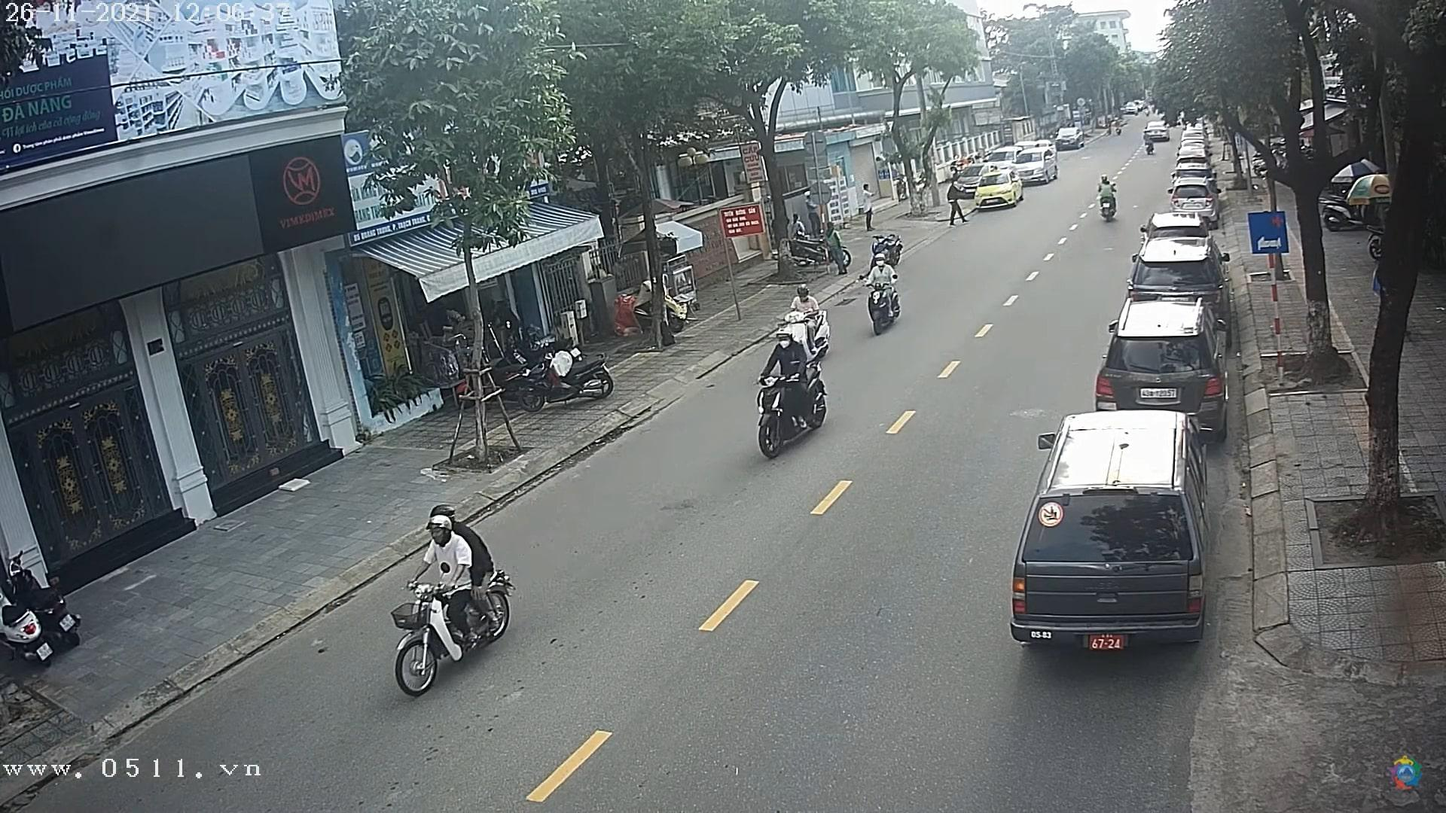car: (1057, 125, 1089, 149), (1145, 126, 1170, 142)
motorbike: (392, 571, 518, 699), (754, 367, 831, 466), (863, 276, 905, 338)
